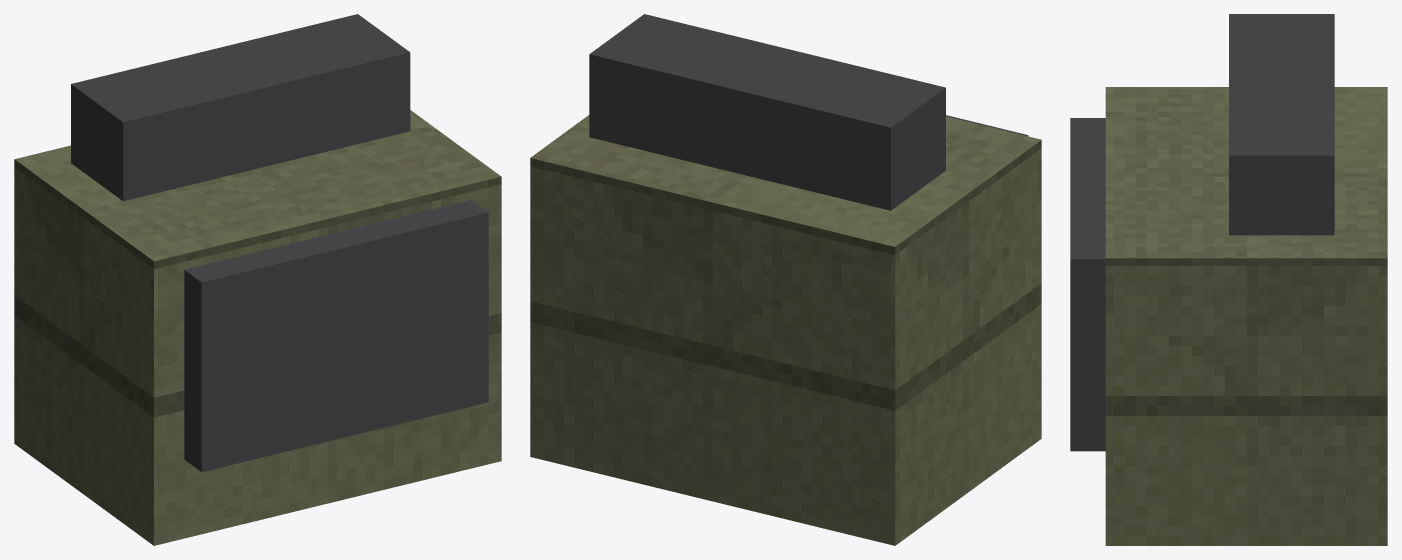
The model's file is fb_field_phone.glb.
3 renders of one model, left to right at view 1: azimuth 30°, elevation 25°; view 2: azimuth 150°, elevation 25°; view 3: azimuth 270°, elevation 25°, orthographic. The views are drawn at different scales.
Visible parts, largest first — view 1: fb_field_phone; view 2: fb_field_phone; view 3: fb_field_phone.
Boxes of the visible parts, x1,y1,x2,y2 form: fb_field_phone: (14,14,501,545); fb_field_phone: (530,14,1041,545); fb_field_phone: (1070,14,1387,545).
Size of what is drawn, in the model's own units: 0.23 by 0.235 by 0.18.
Materials: 2 (1 with a texture image).
